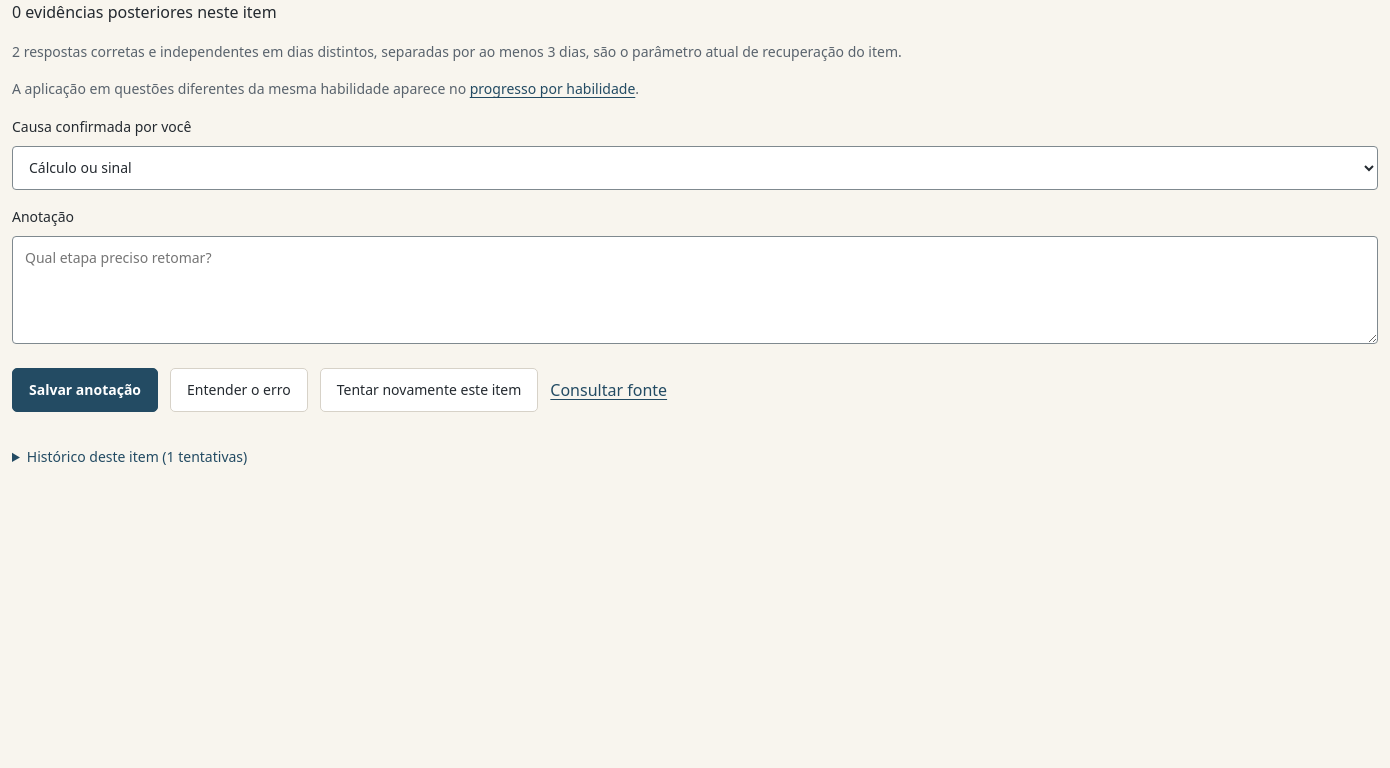
Test case: a candidate exposed through attempt is deprioritized even without its session in loaded history
What coordinates should you click on to do the following:
click the button "Entender o erro"
I would click on:
 (239, 390)
Its box is [170,368,308,412].
(page scrolled)
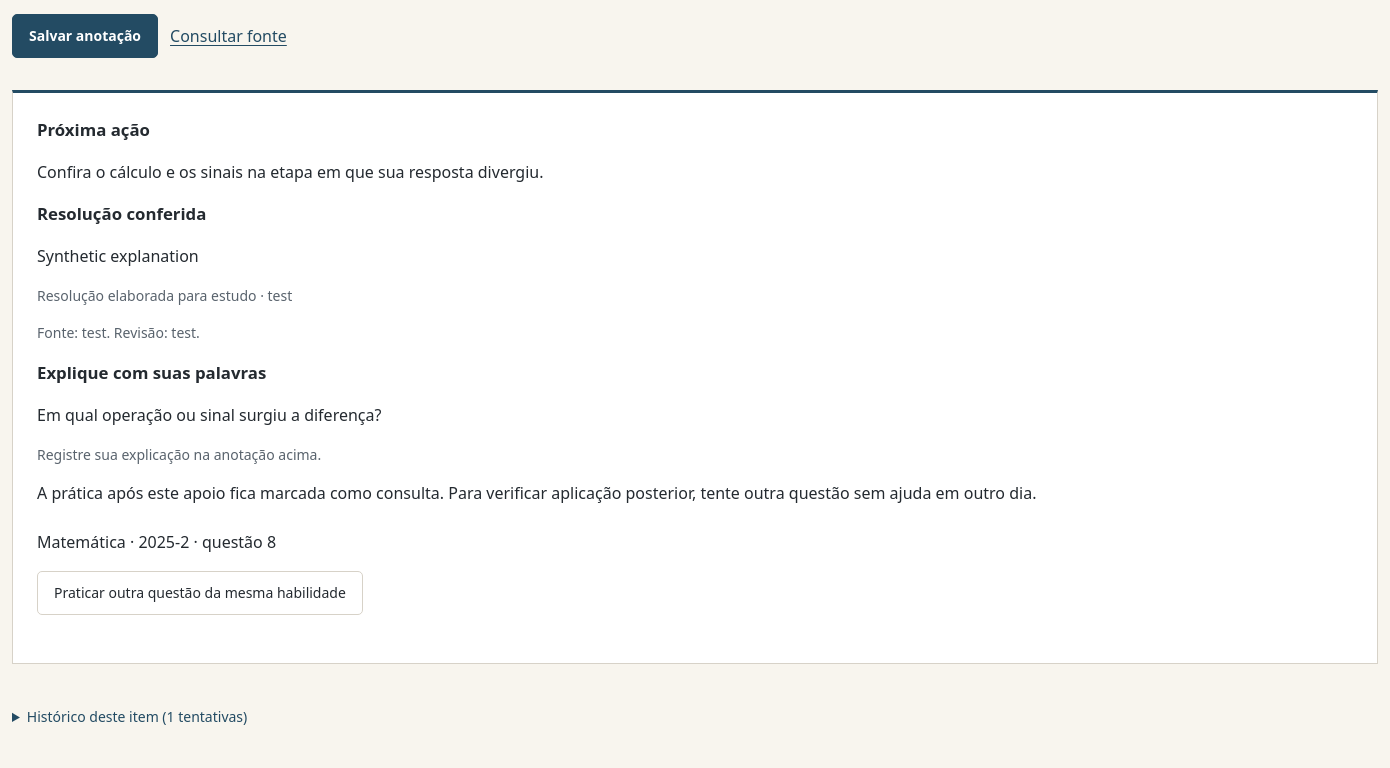
Expected: the text "Synthetic explanation" is shown, [37,245,199,267]
Expected: the text "Matemática · 2025-2 · questão 8" is shown, [37,531,276,553]
